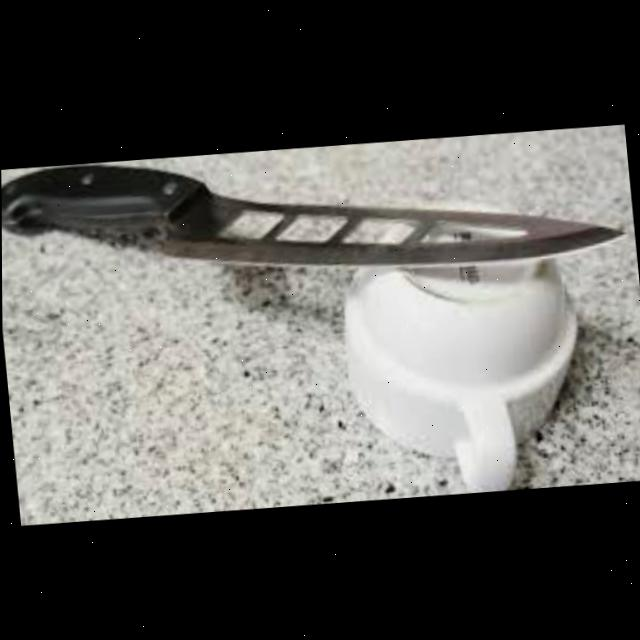Knife: (1, 116, 626, 305)
